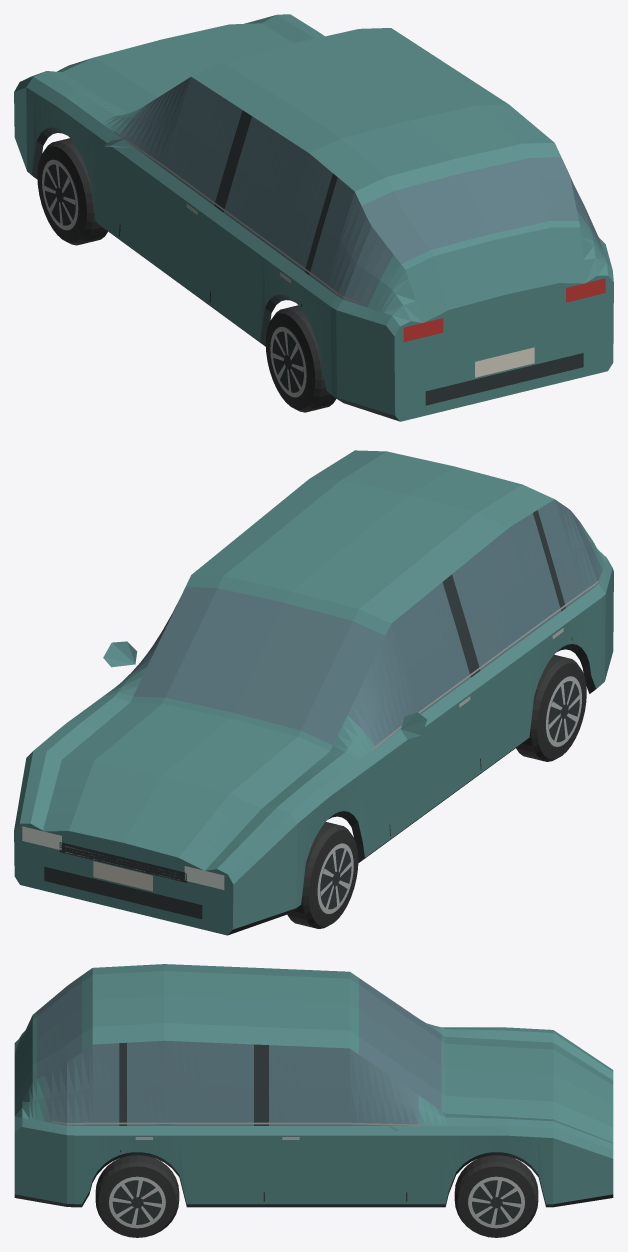
Rendered from estate.glb.
The picture shows the model from 3 angles, top to bottom: view 1: azimuth 30°, elevation 25°; view 2: azimuth 150°, elevation 25°; view 3: azimuth 270°, elevation 25°; orthographic projection. The views are drawn at different scales.
Bounding box in the file's own units: 2.09 × 1.53 × 4.34.
